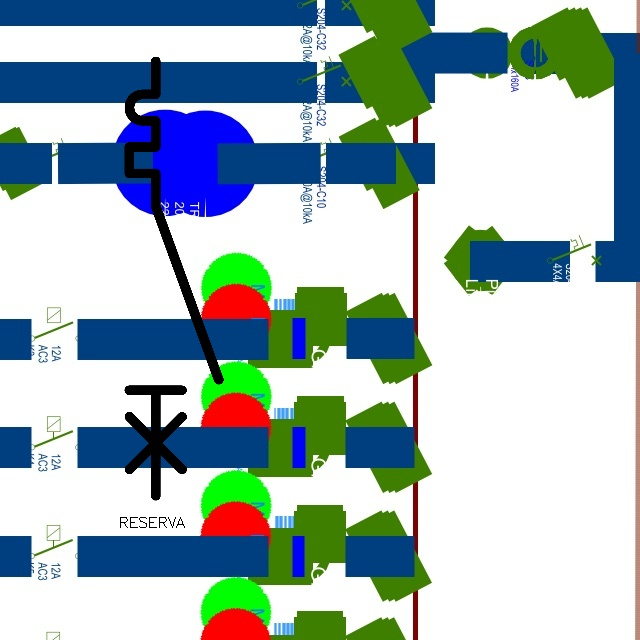interruptor_termomagnetico: (118, 50, 230, 507)
